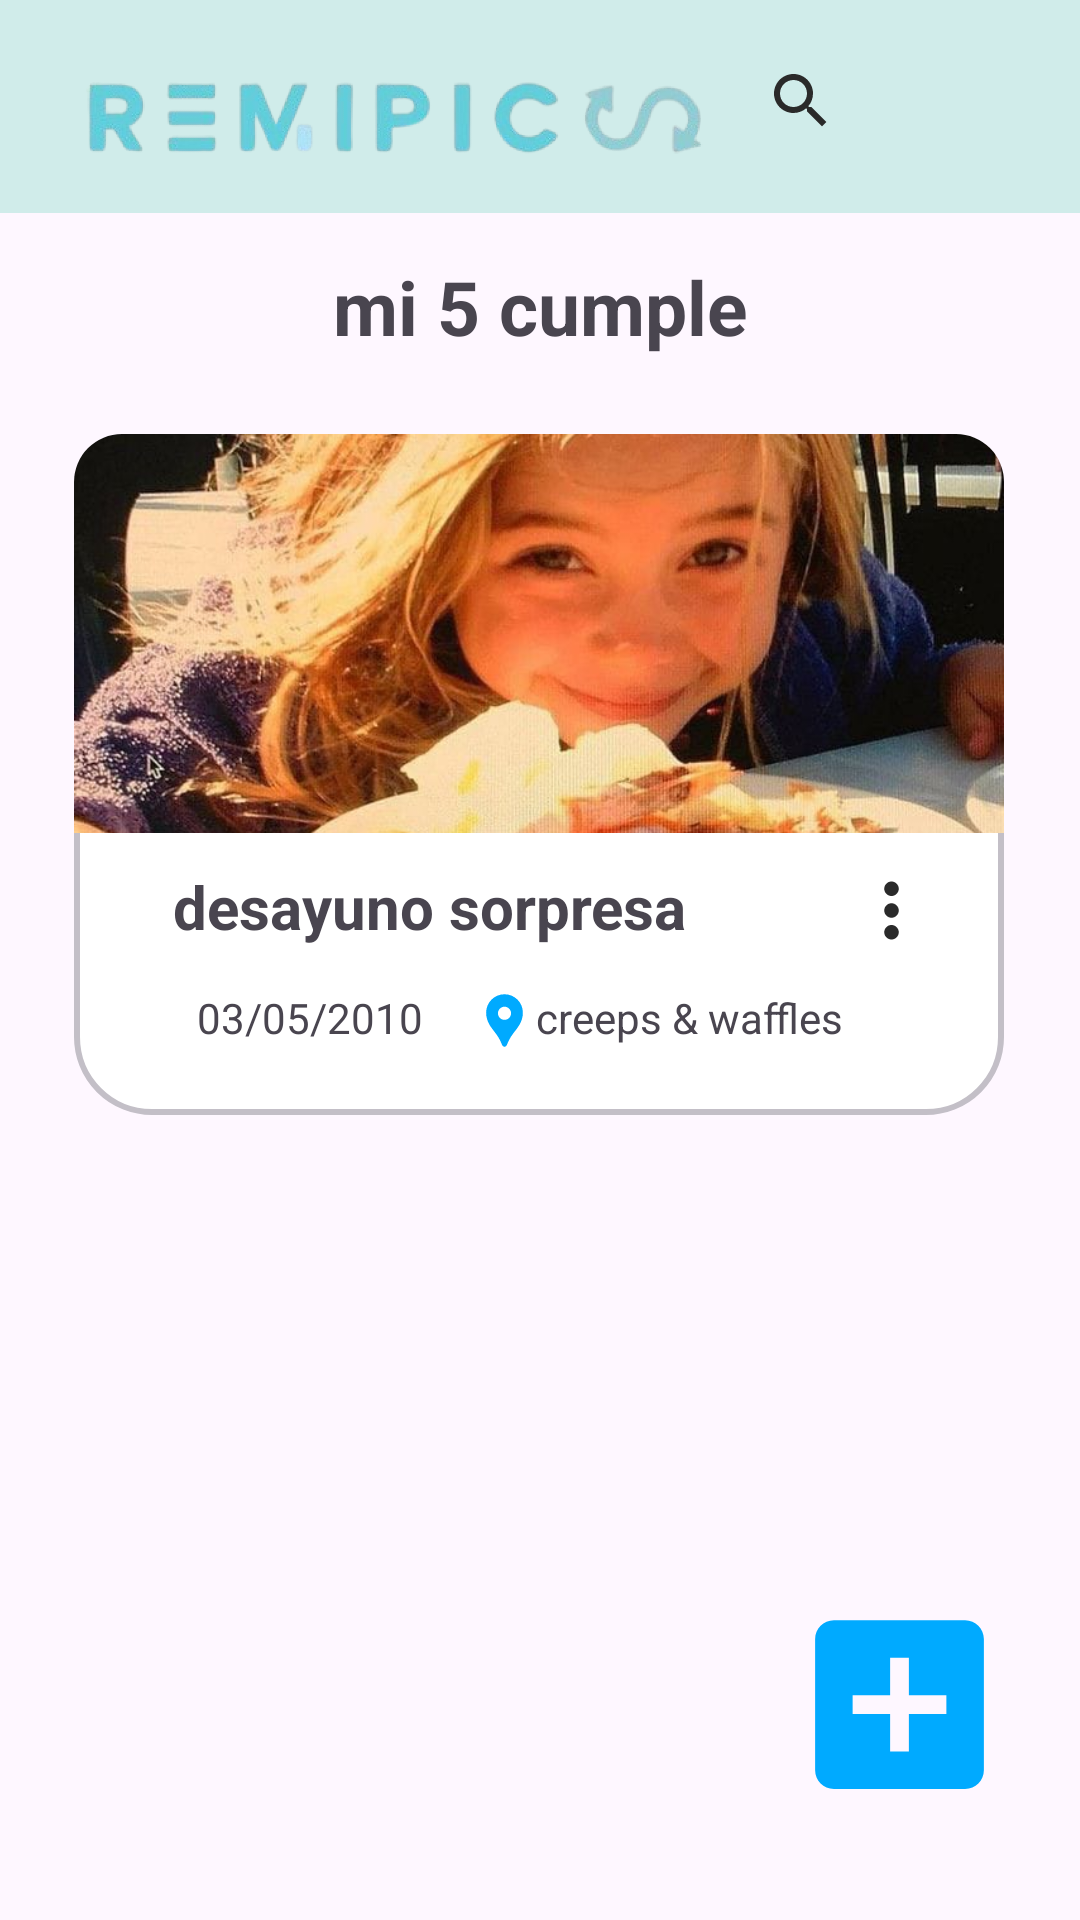

Point at icon controls on the screen. Image size 1080w x 1920h, points as (x,y).
crear album: (899,1704)
lupa: (800,100)
puntos: (891,910)
ubi: (504,1020)
